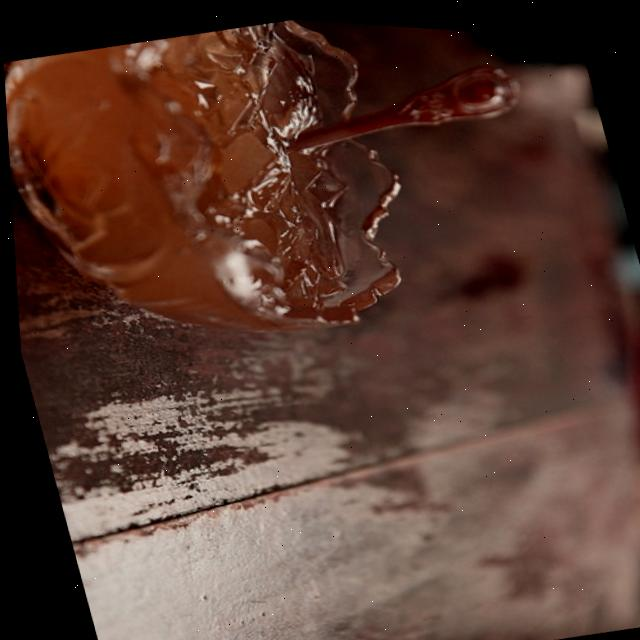蛋糕甜品: (0, 0, 460, 393)
